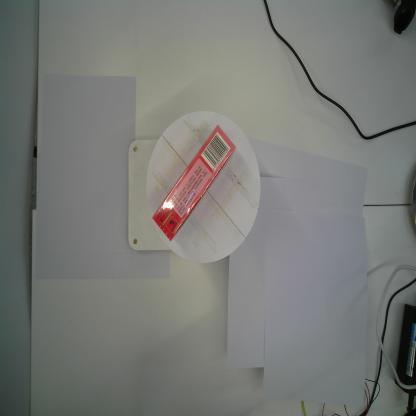Instant Drink: (152, 125, 236, 242)
